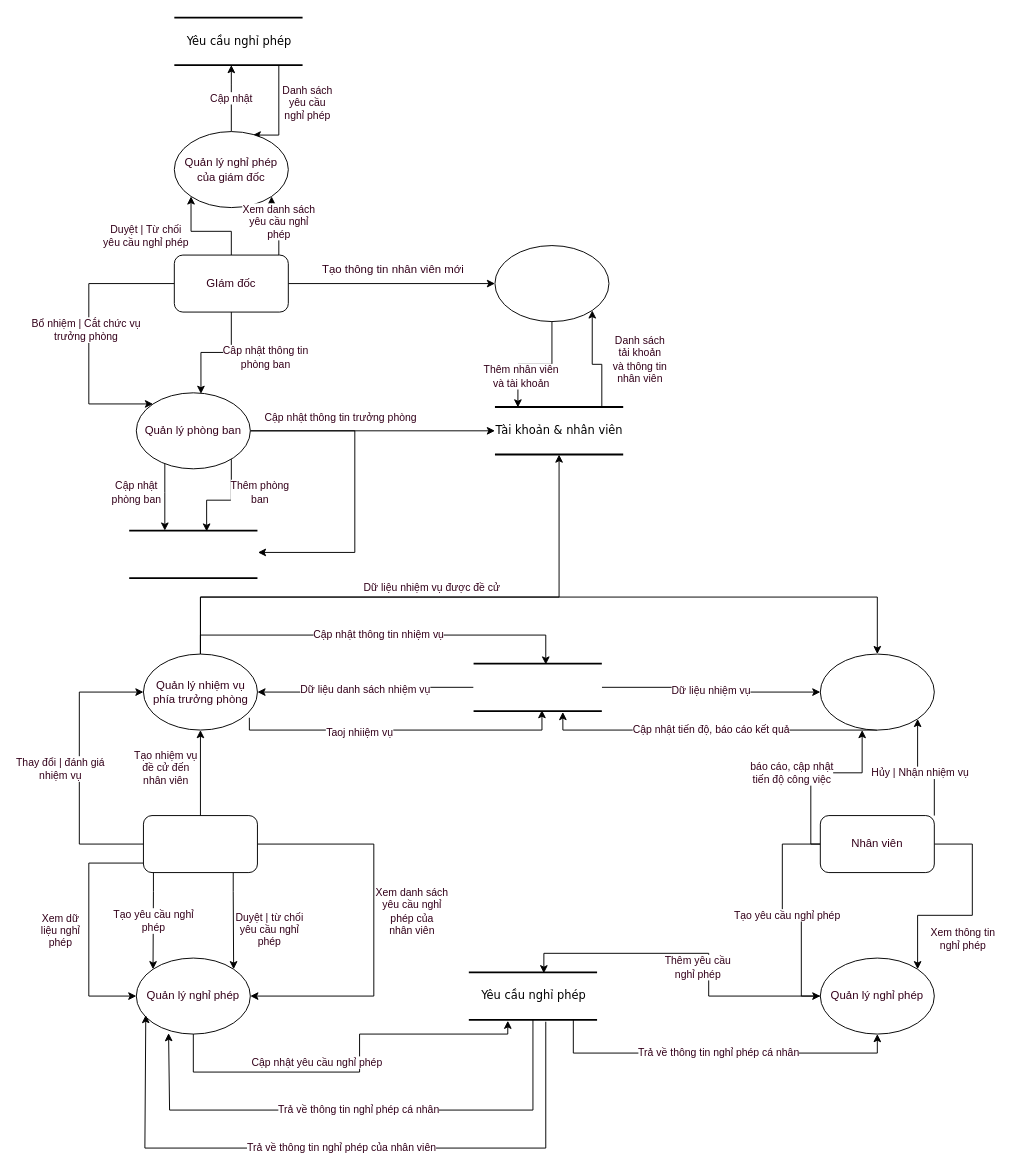
Image size: 1012x1172. Some labels were removed from this diagram. Here are the shapes that lost their labels. From the top down, the box of each, then its label:
(494, 245, 609, 322): Quản lý tài khoản và nhân viên
(128, 529, 258, 579): Phòng ban
(472, 662, 602, 712): Nhiệm vụ
(819, 653, 934, 730): Quản lý nhiệm vụ phía nhân viên
(142, 815, 257, 873): Trưởng phòng
